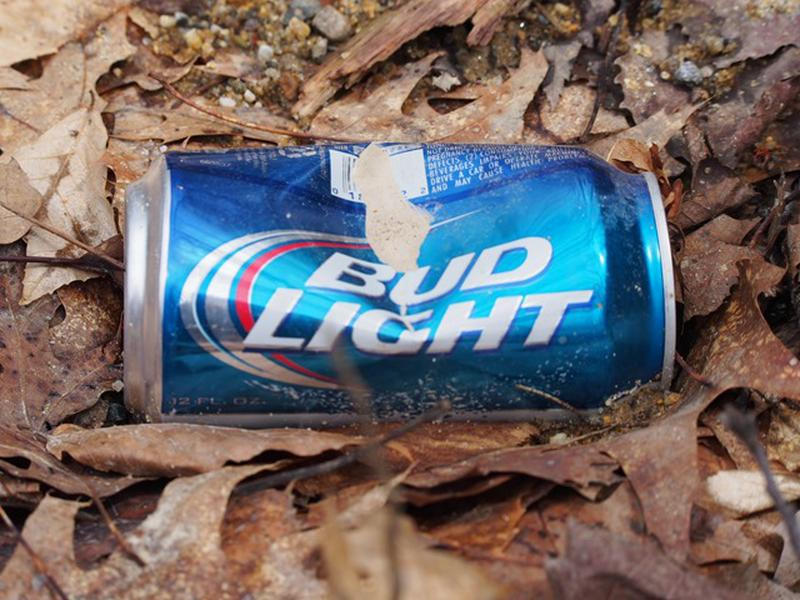can: (105, 139, 686, 427)
leaf: (34, 414, 386, 479)
